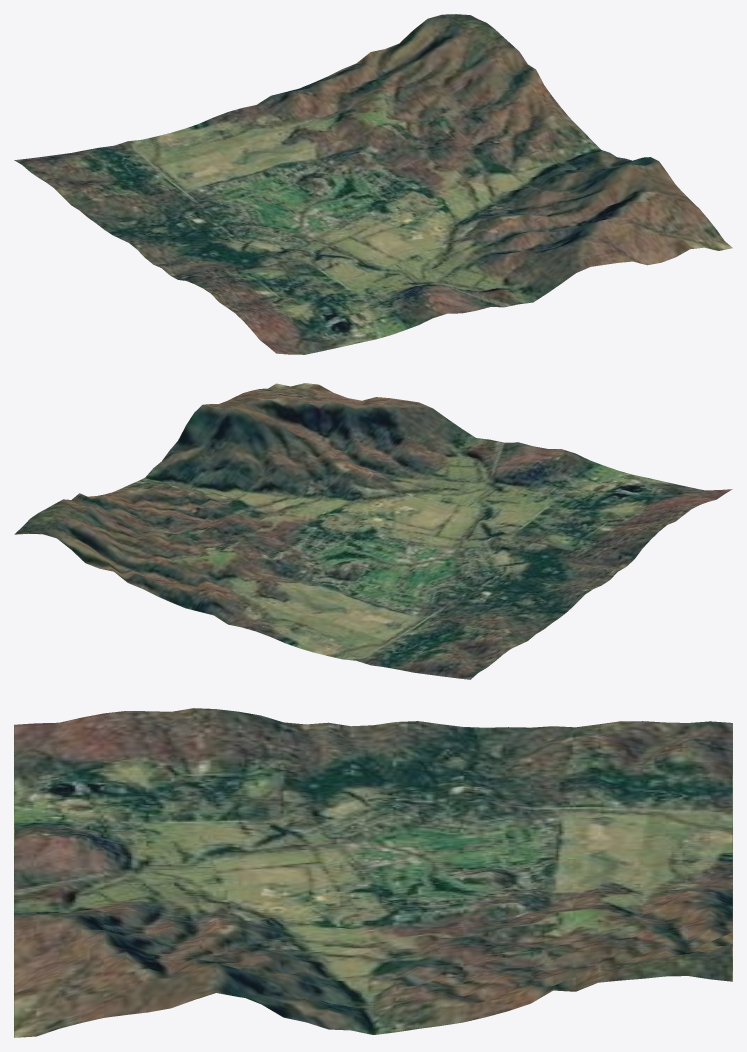
The picture shows the model from 3 angles, top to bottom: view 1: azimuth 30°, elevation 25°; view 2: azimuth 150°, elevation 25°; view 3: azimuth 270°, elevation 25°; orthographic projection. The views are drawn at different scales.
Size of the model in its own units: 3902 by 441 by 3885.
1 material, 1 textured.
